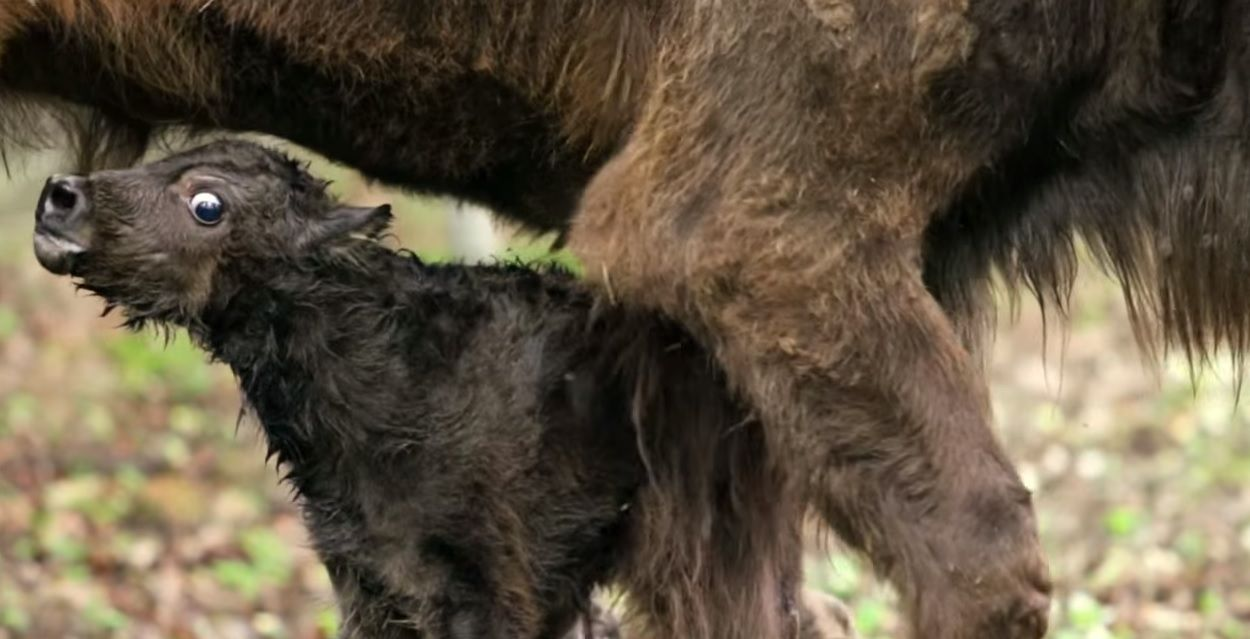zubr: (10, 104, 811, 639)
